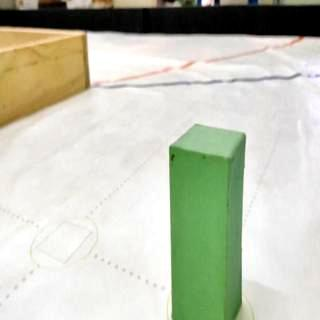greenbox: (168, 121, 248, 320)
